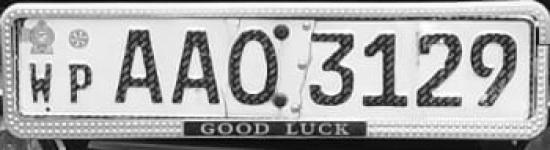1: (360, 24, 414, 114)
2: (411, 24, 465, 113)
3: (305, 27, 363, 113)
9: (465, 25, 521, 112)
A: (167, 22, 228, 112), (109, 23, 167, 108)
O: (229, 23, 293, 118)
P: (64, 60, 100, 108)
W: (24, 59, 56, 107)
